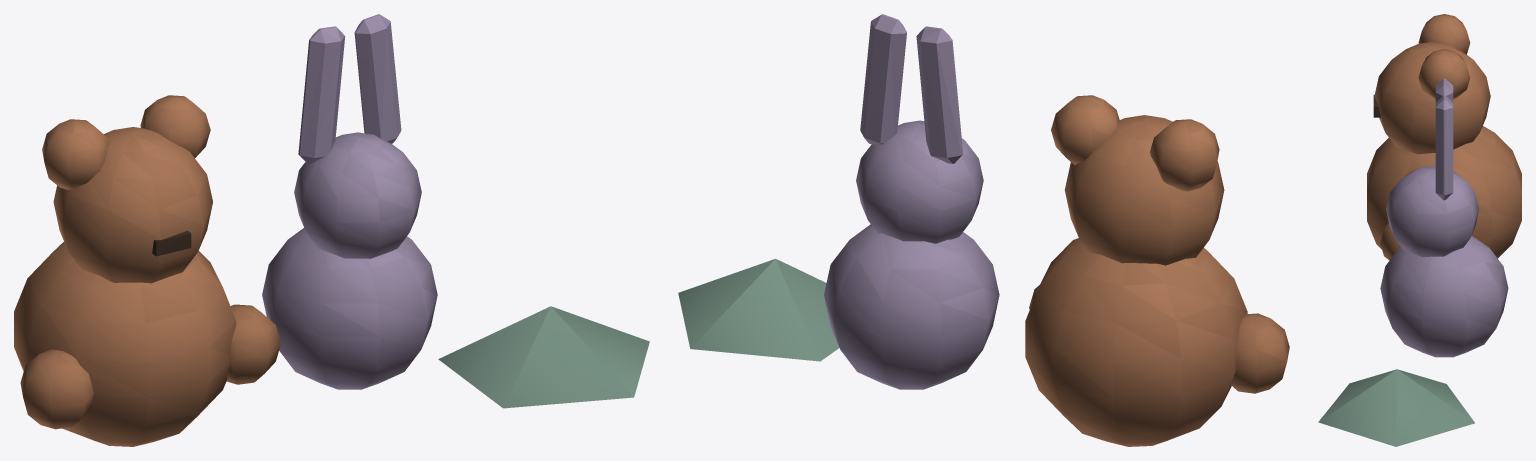
Rendered from plush_set.glb.
The picture shows the model from 3 angles, left to right: view 1: azimuth 30°, elevation 25°; view 2: azimuth 150°, elevation 25°; view 3: azimuth 270°, elevation 25°; orthographic projection. The views are drawn at different scales.
Parts seen in each view (by area): view 1: plush_set; view 2: plush_set; view 3: plush_set.
Part boxes in pixels (box(x1,y1,x2,y2)): plush_set: box(14, 14, 649, 446); plush_set: box(678, 14, 1289, 446); plush_set: box(1318, 14, 1521, 446).
Bounding box in the file's own units: 0.88 × 0.4907 × 0.3449.
